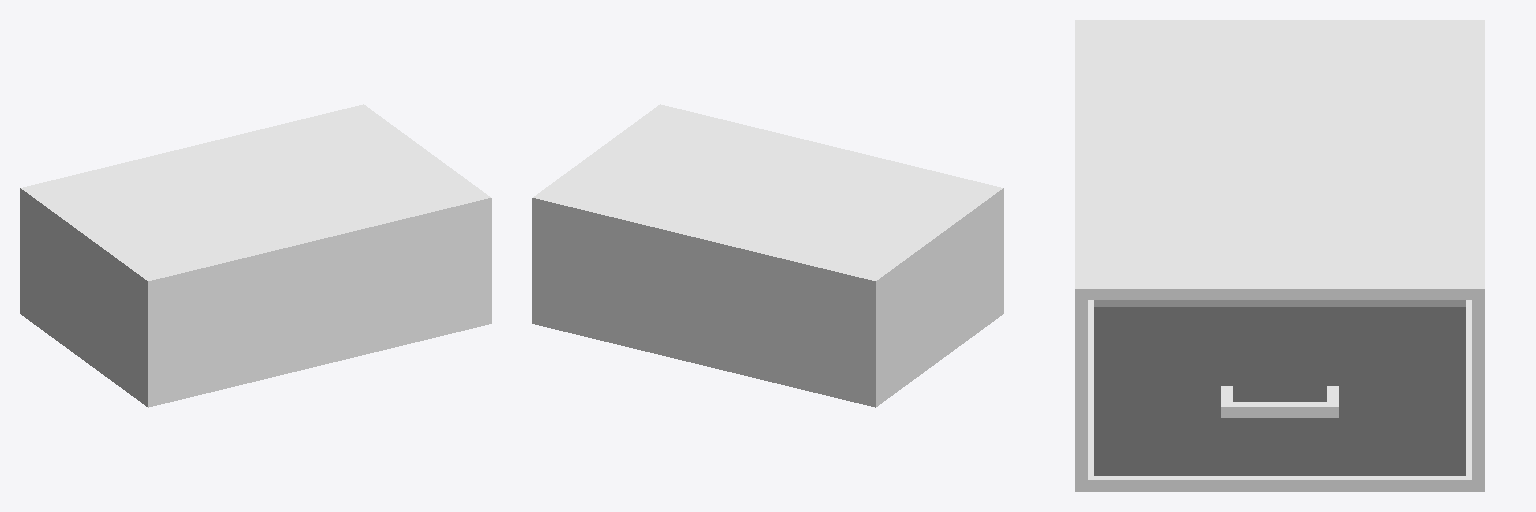
robot.urdf — drawer:
<?xml version="1.0" ?>
<!-- =================================================================================== -->
<!-- |    This document was autogenerated by xacro from drawer_one_sided_handle.xacro  | -->
<!-- |    EDITING THIS FILE BY HAND IS NOT RECOMMENDED                                 | -->
<!-- =================================================================================== -->
<robot name="drawer" xmlns:xacro="http://ros.org/wiki/xacro">
  <material name="omni/Blue">
    <color rgba="0 0 0.8 1"/>
  </material>
  <material name="omni/Red">
    <color rgba="1 0 0 1"/>
  </material>
  <material name="omni/White">
    <color rgba="1 1 1 1"/>
  </material>
  <material name="omni/Green">
    <color rgba="0 1 0 1"/>
  </material>
  <material name="omni/Yellow">
    <color rgba="1 1 0 1"/>
  </material>
  <material name="omni/LightGrey">
    <color rgba="0.6 0.6 0.6 1"/>
  </material>
  <material name="omni/DarkGrey">
    <color rgba="0.4 0.4 0.4 1"/>
  </material>
  <link name="base_link">
    </link>
    <link name="drawer">
    <visual>
      <origin rpy="0 0 0" xyz="0 0 -0.14"/>
      <geometry>
        <box size="1.0 0.6 0.02"/>
      </geometry>
      <material name="omni/LightGrey"/>
    </visual>
    <visual>
      <origin rpy="0 0 0" xyz="0 -0.29 0"/>
      <geometry>
        <box size="1.0 0.02 0.3"/>
      </geometry>
      <material name="omni/LightGrey"/>
    </visual>
    <visual>
      <origin rpy="0 0 0" xyz="0 0.29 0"/>
      <geometry>
        <box size="1.0 0.02 0.3"/>
      </geometry>
      <material name="omni/LightGrey"/>
    </visual>
    <visual>
      <origin rpy="0 0 0" xyz="-0.49 0 0"/>
      <geometry>
        <box size="0.02 0.6 0.3"/>
      </geometry>
      <material name="omni/LightGrey"/>
    </visual>
    <visual>
      <origin rpy="0 0 0" xyz="0.49 0 0"/>
      <geometry>
        <box size="0.02 0.6 0.3"/>
      </geometry>
      <material name="omni/LightGrey"/>
    </visual>
    <collision>
      <origin rpy="0 0 0" xyz="0 0 -0.14"/>
      <geometry>
        <box size="1.0 0.6 0.02"/>
      </geometry>
      <contact_coefficients mu="0.0"/>
    </collision>
    <collision>
      <origin rpy="0 0 0" xyz="0 -0.29 0"/>
      <geometry>
        <box size="1.0 0.02 0.3"/>
      </geometry>
      <contact_coefficients mu="0.0"/>
    </collision>
    <collision>
      <origin rpy="0 0 0" xyz="0 0.29 0"/>
      <geometry>
        <box size="1.0 0.02 0.3"/>
      </geometry>
      <contact_coefficients mu="0.0"/>
    </collision>
    <collision>
      <origin rpy="0 0 0" xyz="-0.49 0 0"/>
      <geometry>
        <box size="0.02 0.6 0.3"/>
      </geometry>
      <contact_coefficients mu="0.0"/>
    </collision>
    <collision>
      <origin rpy="0 0 0" xyz="0.49 0 0"/>
      <geometry>
        <box size="0.02 0.6 0.3"/>
      </geometry>
      <contact_coefficients mu="0.0"/>
    </collision>
    <inertial>
      <origin rpy="0 0 0" xyz="0 0 0"/>
      <mass value="0.1"/>
      <inertia ixx="0.0225" ixy="0" ixz="0" iyy="0.0545" iyz="0" izz="0.068"/>
    </inertial>
  </link>
  <joint name="base_drawer_joint" type="prismatic">
    <origin rpy="0 0 0" xyz="0 0 0"/>
    <parent link="base_link"/>
    <child link="drawer"/>
    <dynamics damping="1.0" friction="1.0"/>
    <limit effort="0.1" lower="0.0" upper="0.5" velocity="10.0"/>
    <axis xyz="1 0 0"/>
  </joint>
  <link name="left_wall">
    <visual>
      <origin rpy="0 0 0" xyz="0 0 0"/>
      <geometry>
        <box size="1.01 0.02 0.32"/>
      </geometry>
      <material name="omni/White"/>
    </visual>
    <collision>
      <origin rpy="0 0 0" xyz="0 0 0.0"/>
      <geometry>
        <box size="1.01 0.02 0.32"/>
      </geometry>
    </collision>
    <inertial>
      <!-- CENTER OF MASS -->
      <origin rpy="0 0 0" xyz="0 0 0"/>
      <mass value="0.05"/>
      <!-- box inertia: 1/12*m(y^2+z^2), ... -->
      <inertia ixx="0.00257" ixy="0" ixz="0" iyy="0.0280625" iyz="0" izz="0.0255125"/>
    </inertial>
  </link>
  <joint name="b_2_lw" type="fixed">
    <origin rpy="0 0 0" xyz="-0.01 -0.32 0"/>
    <parent link="base_link"/>
    <child link="left_wall"/>
  </joint>
  <link name="right_wall">
    <visual>
      <origin rpy="0 0 0" xyz="0 0 0"/>
      <geometry>
        <box size="1.01 0.02 0.32"/>
      </geometry>
      <material name="omni/White"/>
    </visual>
    <collision>
      <origin rpy="0 0 0" xyz="0 0 0.0"/>
      <geometry>
        <box size="1.01 0.02 0.32"/>
      </geometry>
    </collision>
    <inertial>
      <!-- CENTER OF MASS -->
      <origin rpy="0 0 0" xyz="0 0 0"/>
      <mass value="0.05"/>
      <!-- box inertia: 1/12*m(y^2+z^2), ... -->
      <inertia ixx="0.00257" ixy="0" ixz="0" iyy="0.0280625" iyz="0" izz="0.0255125"/>
    </inertial>
  </link>
  <joint name="b_2_rw" type="fixed">
    <origin rpy="0 0 0" xyz="-0.01 0.32 0"/>
    <parent link="base_link"/>
    <child link="right_wall"/>
  </joint>
  <link name="bottom_wall">
    <visual>
      <origin rpy="0 0 0" xyz="0 0 0"/>
      <geometry>
        <box size="1.01 0.66 0.02"/>
      </geometry>
      <material name="omni/White"/>
    </visual>
    <collision>
      <origin rpy="0 0 0" xyz="0 0 0.0"/>
      <geometry>
        <box size="1.01 0.66 0.02"/>
      </geometry>
    </collision>
    <inertial>
      <!-- CENTER OF MASS -->
      <origin rpy="0 0 0" xyz="0 0 0"/>
      <mass value="0.05"/>
      <!-- box inertia: 1/12*m(y^2+z^2), ... -->
      <inertia ixx="0.0109" ixy="0" ixz="0" iyy="0.0255125" iyz="0" izz="0.0363925"/>
    </inertial>
  </link>
  <joint name="b_2_bw" type="fixed">
    <origin rpy="0 0 0" xyz="-0.01 0 -0.17"/>
    <parent link="base_link"/>
    <child link="bottom_wall"/>
  </joint>
  <link name="top_wall">
    <visual>
      <origin rpy="0 0 0" xyz="0 0 0"/>
      <geometry>
        <box size="1.01 0.66 0.02"/>
      </geometry>
      <material name="omni/White"/>
    </visual>
    <collision>
      <origin rpy="0 0 0" xyz="0 0 0.0"/>
      <geometry>
        <box size="1.01 0.66 0.02"/>
      </geometry>
    </collision>
    <inertial>
      <!-- CENTER OF MASS -->
      <origin rpy="0 0 0" xyz="0 0 0"/>
      <mass value="0.05"/>
      <!-- box inertia: 1/12*m(y^2+z^2), ... -->
      <inertia ixx="0.0109" ixy="0" ixz="0" iyy="0.0255125" iyz="0" izz="0.0363925"/>
    </inertial>
  </link>
  <joint name="b_2_tw" type="fixed">
    <origin rpy="0 0 0" xyz="-0.01 0 0.17"/>
    <parent link="base_link"/>
    <child link="top_wall"/>
  </joint>
  <link name="back_wall">
    <visual>
      <origin rpy="0 0 0" xyz="0 0 0"/>
      <geometry>
        <box size="0.02 0.66 0.36"/>
      </geometry>
      <material name="omni/White"/>
    </visual>
    <collision>
      <origin rpy="0 0 0" xyz="0 0 0.0"/>
      <geometry>
        <box size="0.02 0.66 0.36"/>
      </geometry>
    </collision>
    <inertial>
      <!-- CENTER OF MASS -->
      <origin rpy="0 0 0" xyz="0 0 0"/>
      <mass value="0.05"/>
      <!-- box inertia: 1/12*m(y^2+z^2), ... -->
      <inertia ixx="0.01413" ixy="0" ixz="0" iyy="0.00325" iyz="0" izz="0.02178"/>
    </inertial>
  </link>
  <joint name="b_2_backw" type="fixed">
    <origin rpy="0 0 0" xyz="-0.52 0 0"/>
    <parent link="base_link"/>
    <child link="back_wall"/>
  </joint>
  <link name="handle_left">
    <visual>
      <origin rpy="0 0 0" xyz="0 0 0"/>
      <geometry>
        <box size="0.06 0.02 0.02"/>
      </geometry>
      <material name="omni/White"/>
    </visual>
    <collision>
      <origin rpy="0 0 0" xyz="0 0 0.0"/>
      <geometry>
        <box size="0.06 0.02 0.02"/>
      </geometry>
    </collision>
    <inertial>
      <!-- CENTER OF MASS -->
      <origin rpy="0 0 0" xyz="0 0 0"/>
      <mass value="0.05"/>
      <!-- box inertia: 1/12*m(y^2+z^2), ... -->
      <inertia ixx="2e-05" ixy="0" ixz="0" iyy="0.0001" iyz="0" izz="0.0001"/>
    </inertial>
  </link>
  <joint name="d_2_hl" type="fixed">
    <origin rpy="0 0 0" xyz="0.53 -0.085 0"/>
    <parent link="drawer"/>
    <child link="handle_left"/>
  </joint>
  <link name="handle_right">
    <visual>
      <origin rpy="0 0 0" xyz="0 0 0"/>
      <geometry>
        <box size="0.06 0.02 0.02"/>
      </geometry>
      <material name="omni/White"/>
    </visual>
    <collision>
      <origin rpy="0 0 0" xyz="0 0 0.0"/>
      <geometry>
        <box size="0.06 0.02 0.02"/>
      </geometry>
    </collision>
    <inertial>
      <!-- CENTER OF MASS -->
      <origin rpy="0 0 0" xyz="0 0 0"/>
      <mass value="0.05"/>
      <!-- box inertia: 1/12*m(y^2+z^2), ... -->
      <inertia ixx="2e-05" ixy="0" ixz="0" iyy="0.0001" iyz="0" izz="0.0001"/>
    </inertial>
  </link>
  <joint name="d_2_hr" type="fixed">
    <origin rpy="0 0 0" xyz="0.53 0.085 0"/>
    <parent link="drawer"/>
    <child link="handle_right"/>
  </joint>
  <link name="handle_grip">
    <visual>
      <origin rpy="0 0 0" xyz="0 0 0"/>
      <geometry>
        <box size="0.02 0.19 0.02"/>
      </geometry>
      <material name="omni/White"/>
    </visual>
    <collision>
      <origin rpy="0 0 0" xyz="0 0 0.0"/>
      <geometry>
        <box size="0.02 0.19 0.02"/>
      </geometry>
    </collision>
    <inertial>
      <!-- CENTER OF MASS -->
      <origin rpy="0 0 0" xyz="0 0 0"/>
      <mass value="0.05"/>
      <!-- box inertia: 1/12*m(y^2+z^2), ... -->
      <inertia ixx="0.0009125" ixy="0" ixz="0" iyy="2e-05" iyz="0" izz="0.0009125"/>
    </inertial>
  </link>
  <joint name="d_2_hg" type="fixed">
    <origin rpy="0 0 0" xyz="0.57 0 0"/>
    <parent link="drawer"/>
    <child link="handle_grip"/>
  </joint>
</robot>

--- Facts derived from the render (not from the file) ---
The picture shows the robot from 3 angles, left to right: view 1: azimuth 30°, elevation 25°; view 2: azimuth 150°, elevation 25°; view 3: azimuth 270°, elevation 25°; orthographic projection.
Model drawer with 10 links and 9 joints (1 prismatic, 8 fixed), rooted at base_link, posed all joints at 0.
Links seen in each view (by area): view 1: top_wall, left_wall, back_wall, bottom_wall; view 2: top_wall, right_wall, back_wall, bottom_wall; view 3: top_wall, drawer, bottom_wall, left_wall, right_wall, back_wall, handle_grip.
Link boxes in pixels (x1,y1,x2,y2): top_wall: (26,104,491,286); left_wall: (153,205,491,398); back_wall: (20,187,154,407); bottom_wall: (154,317,491,405); top_wall: (532,104,997,286); right_wall: (532,205,870,398); back_wall: (869,187,1003,407); bottom_wall: (532,317,869,405); top_wall: (1075,24,1484,299); drawer: (1094,300,1465,475); bottom_wall: (1075,300,1484,491); left_wall: (1075,300,1087,479); right_wall: (1472,300,1484,479); back_wall: (1075,20,1484,25); handle_grip: (1221,402,1338,417).
Size in the robot's own frame: 1.11 by 0.66 by 0.36 metres.
Geometry: primitives only (box / cylinder / sphere), no mesh files.
